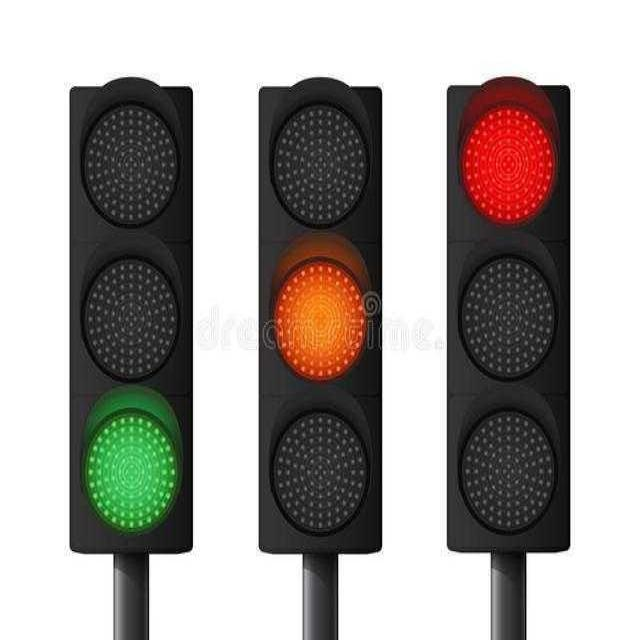Traffic Light -Green-: (58, 63, 204, 554)
Traffic Light -Red-: (433, 60, 587, 562)
Traffic Light -Yellow-: (245, 59, 395, 562)
